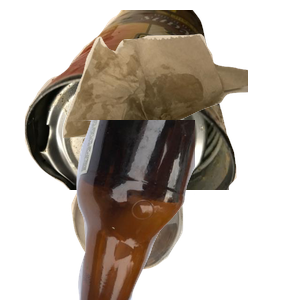glass: (60, 120, 300, 300)
metal: (22, 10, 251, 190)
plastic: (69, 161, 245, 300)
trash: (60, 31, 300, 189)
